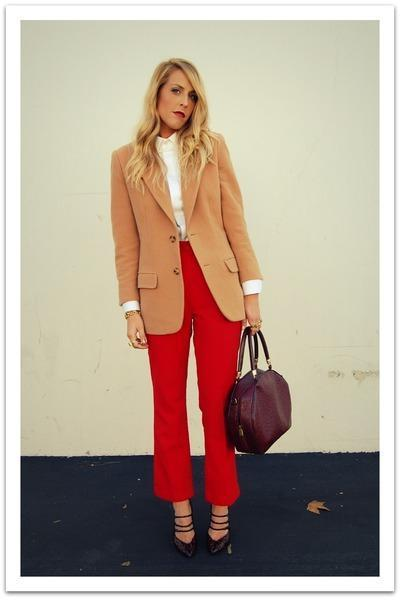jacket: (115, 122, 263, 335)
short sleeve shirt: (148, 125, 193, 246)
trousers: (142, 232, 251, 507)
